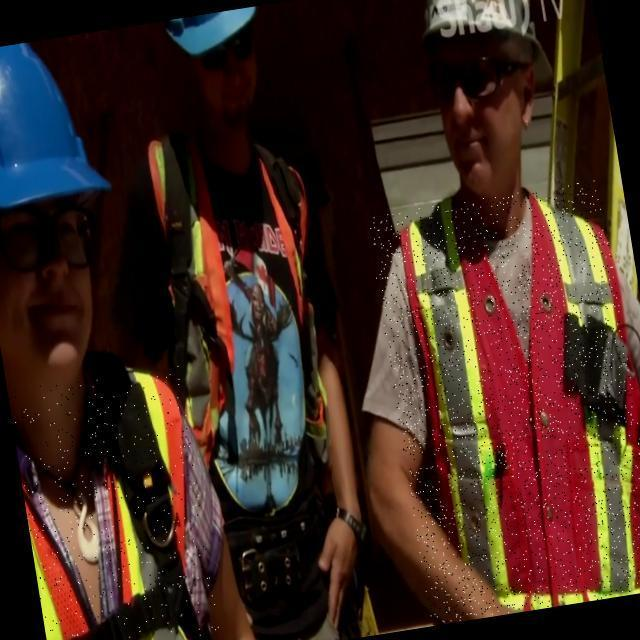helmet: (0, 36, 120, 205), (423, 0, 556, 72), (177, 0, 258, 64)
vest: (366, 179, 640, 626), (7, 364, 225, 640)
